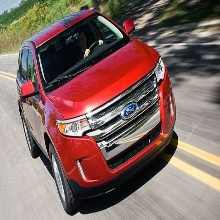no damage: (17, 10, 178, 211)
